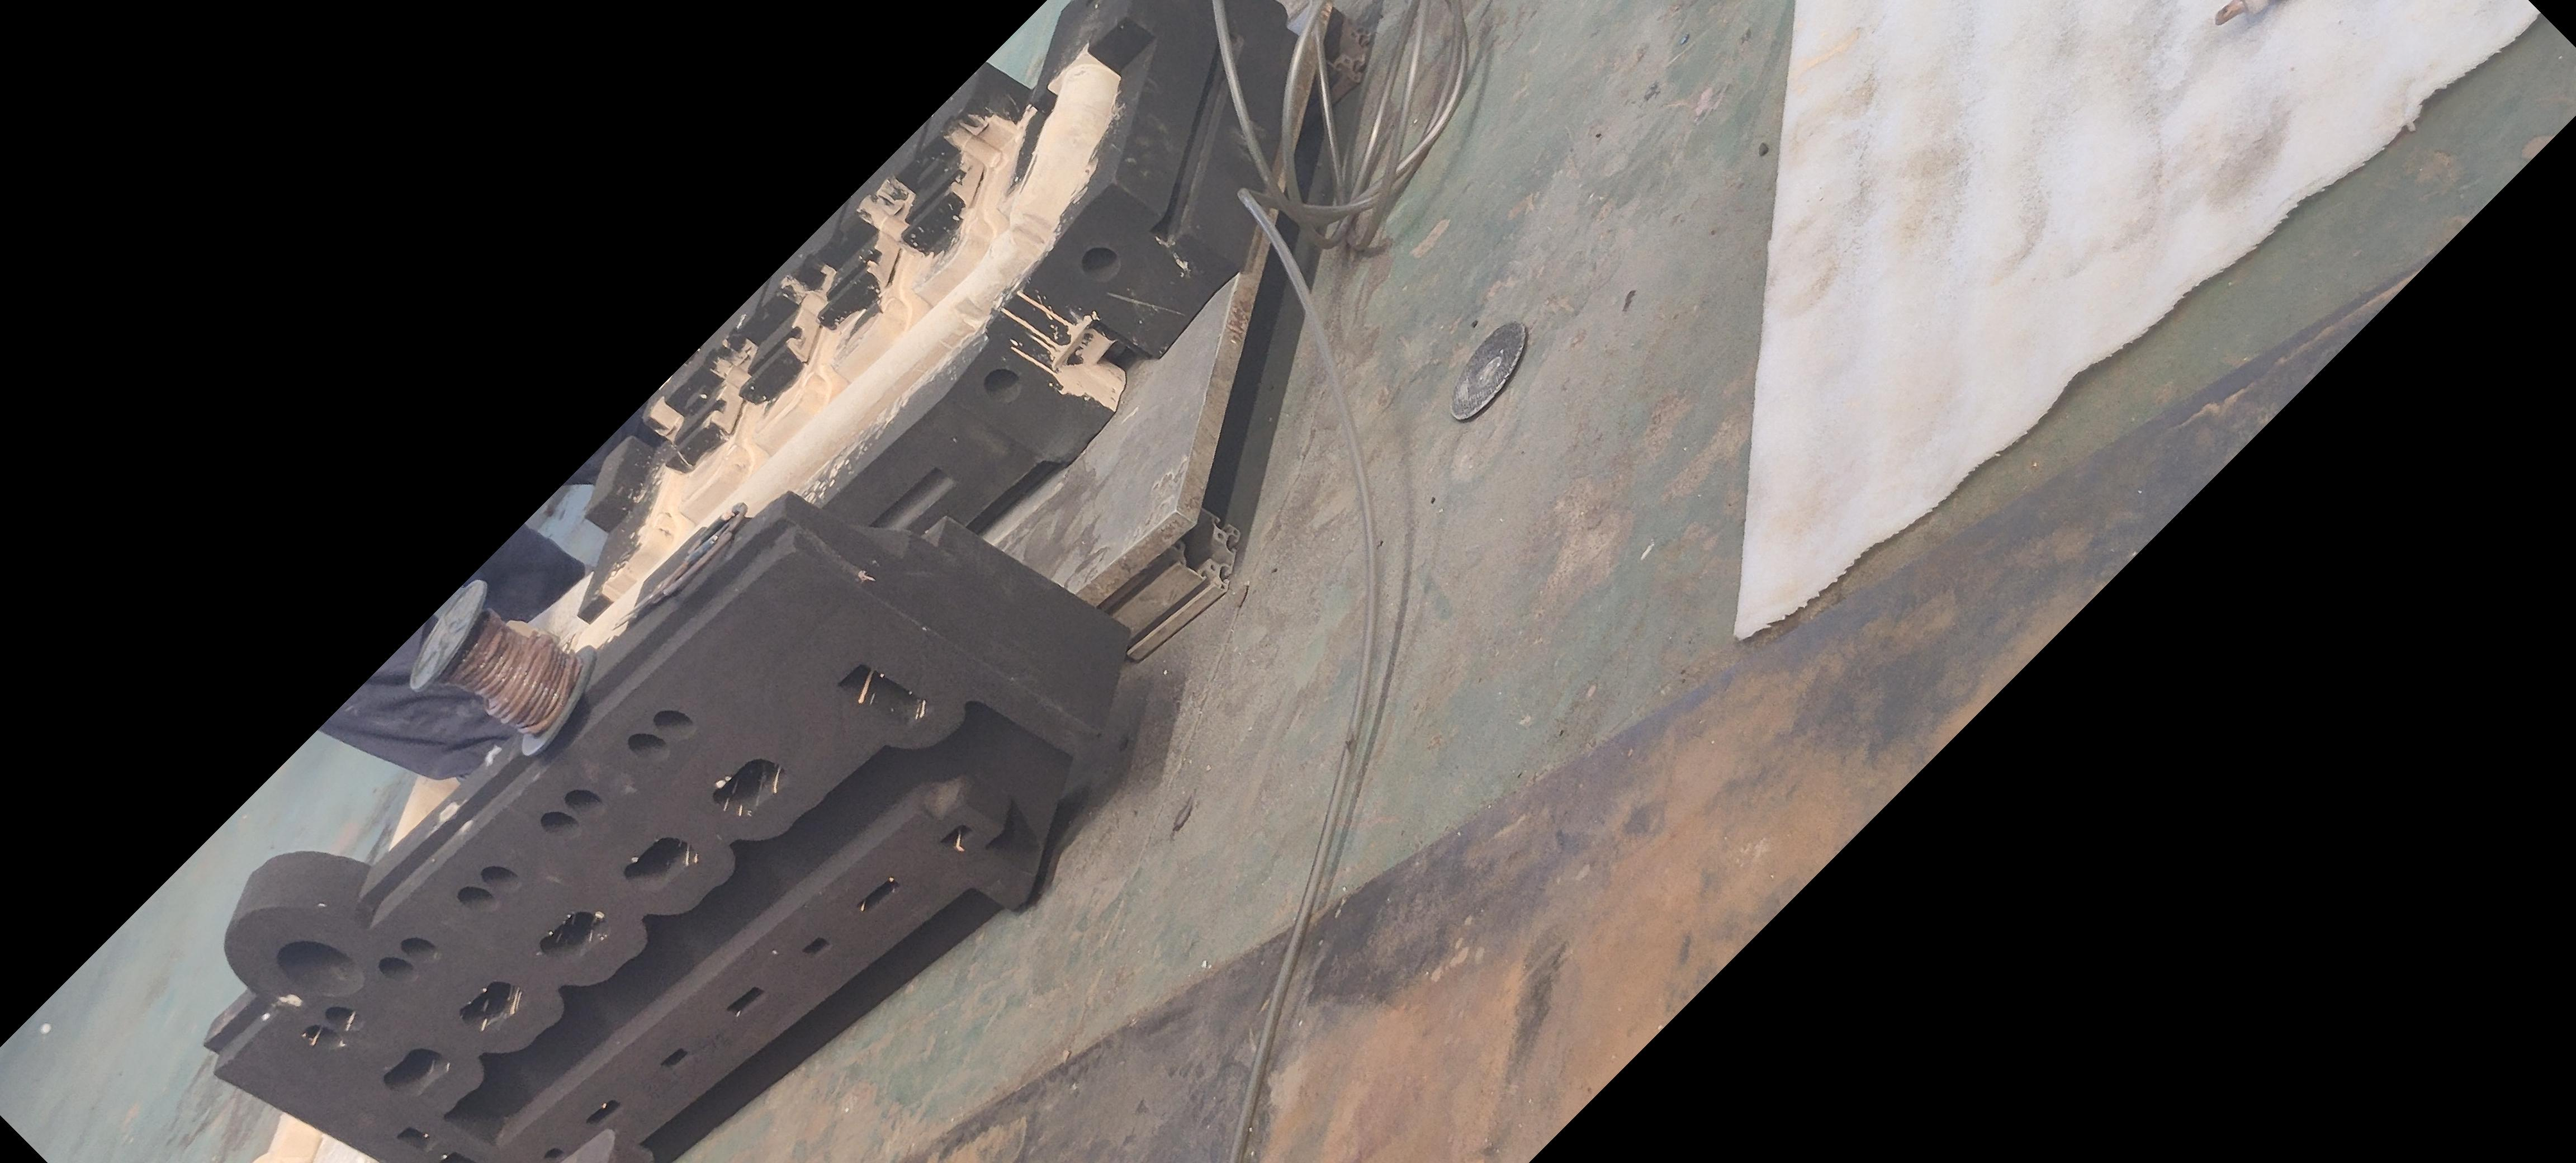pouring hole: (276, 941, 368, 997)
